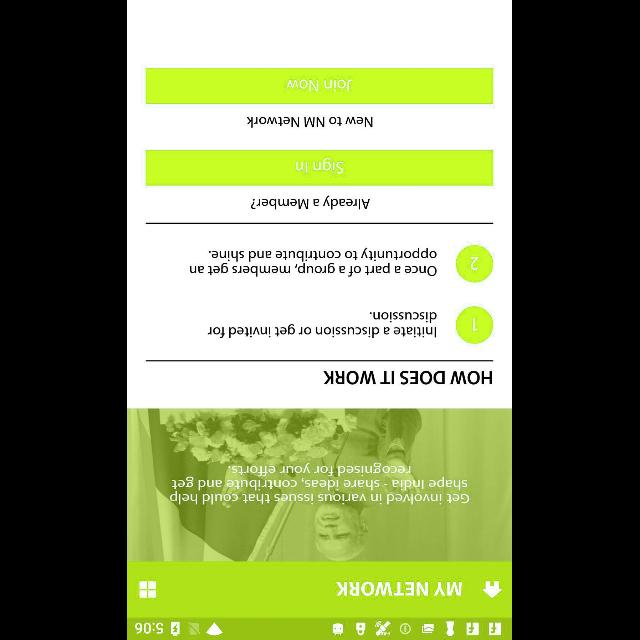icon: (483, 582, 503, 598), (140, 580, 156, 598)
image: (128, 408, 512, 560), (456, 306, 494, 344), (456, 245, 494, 282)
text: (170, 462, 470, 504), (190, 247, 438, 277), (208, 312, 438, 338), (323, 371, 492, 385), (336, 580, 464, 596), (252, 195, 371, 209), (247, 116, 373, 128)
textbutton: (146, 68, 494, 104), (146, 150, 494, 186)
uppertaskbar: (128, 617, 512, 639)
